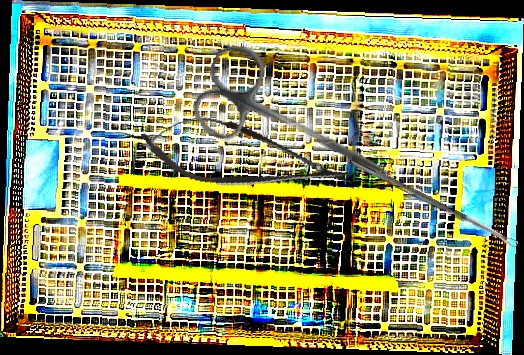Iris Scissors: (183, 36, 416, 215)
Micro Scissor: (134, 103, 360, 211)
Surgical Spoon: (348, 156, 519, 250)
